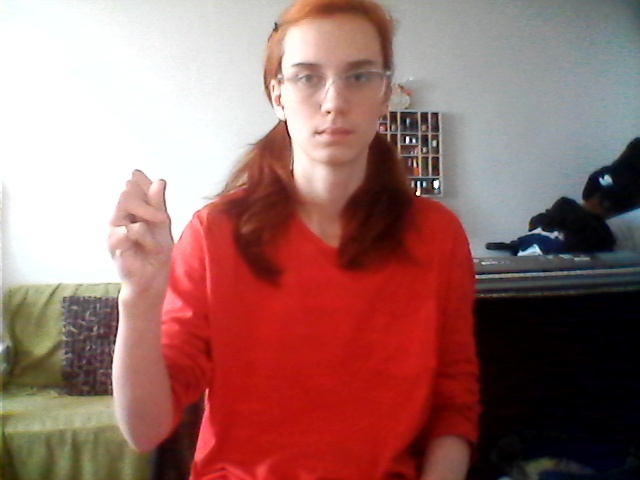r: (91, 158, 201, 294)
